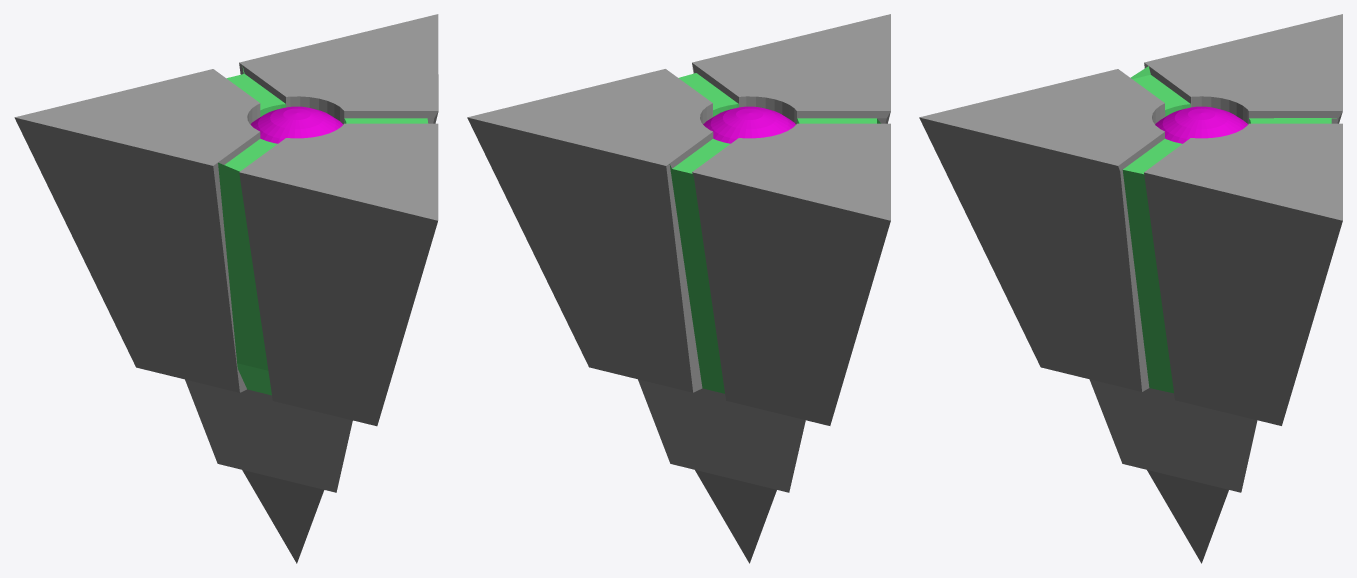
File: forme_triangle.fbx
3 renders of one model, left to right at view 1: azimuth 30°, elevation 25°; view 2: azimuth 150°, elevation 25°; view 3: azimuth 270°, elevation 25°, orthographic.
Parts seen in each view (by area): view 1: triangle; view 2: triangle; view 3: triangle.
Part boxes in pixels (x1,y1,x2,y2): triangle: (14, 14, 438, 563); triangle: (467, 14, 890, 563); triangle: (919, 14, 1342, 563).
Size of the model in its own units: 196 by 199 by 170.
